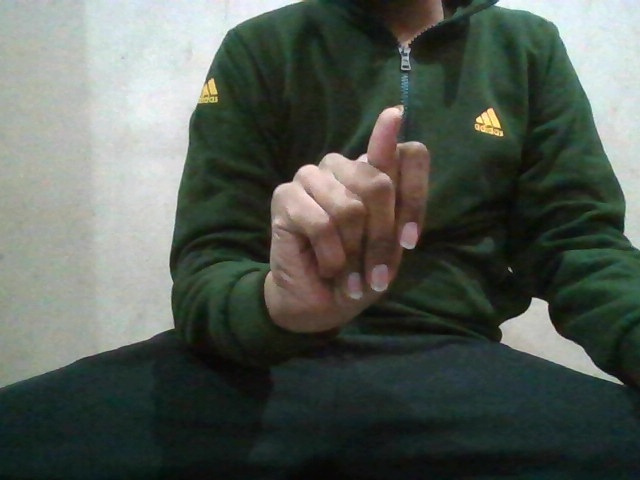T: (261, 98, 434, 334)
